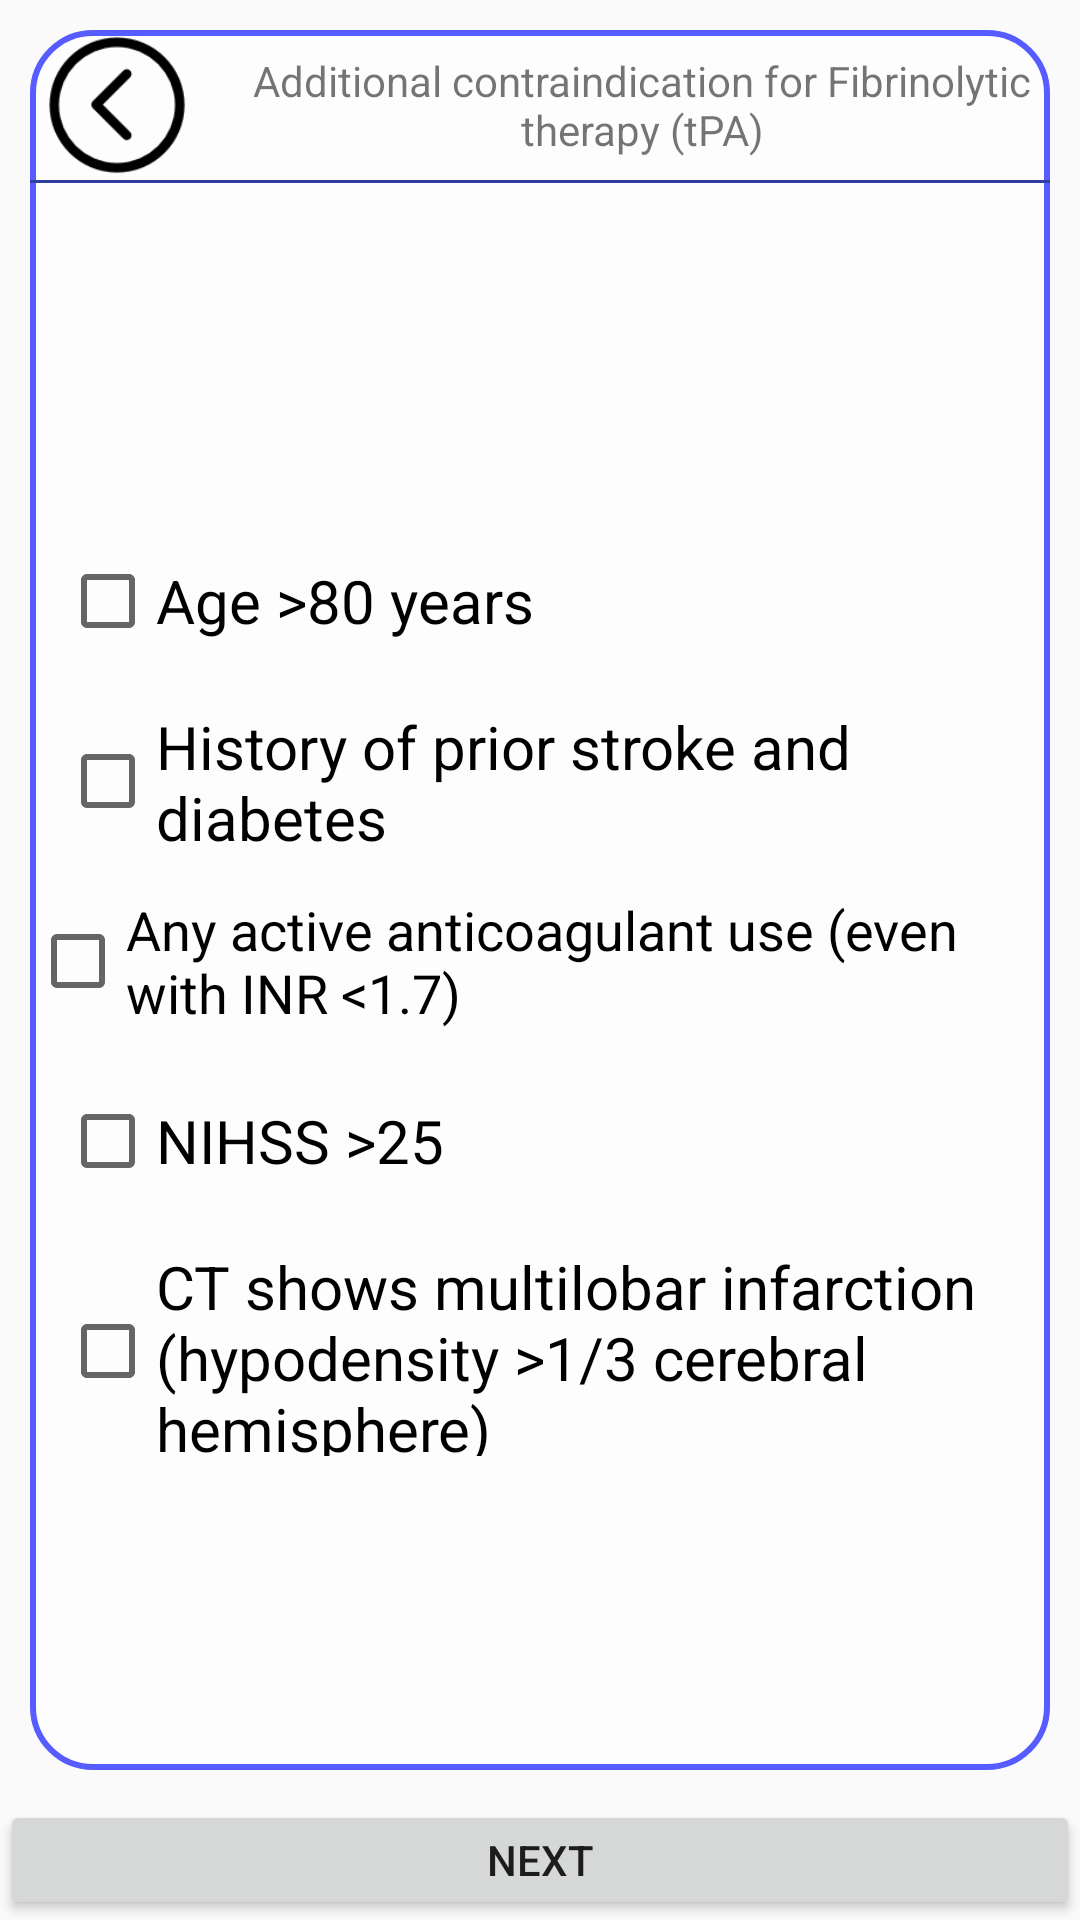

Locate icon controls on the screen. Image size 1080*1920, boxes as detection(x1, y1, x2, y2).
prev: detection(49, 37, 185, 173)
